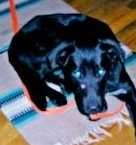dog: (1, 15, 135, 116)
